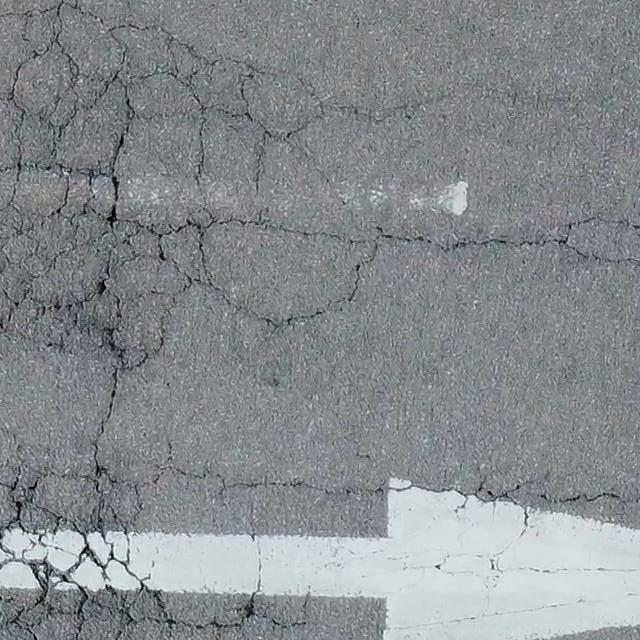GRIETA: (387, 232, 639, 263), (341, 94, 451, 125), (94, 383, 117, 465), (566, 215, 639, 237)
PIEL DE COCODRILO: (0, 0, 394, 383), (0, 459, 639, 639)
